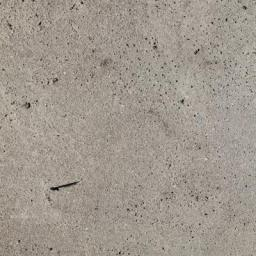FOD: (50, 178, 86, 194)
